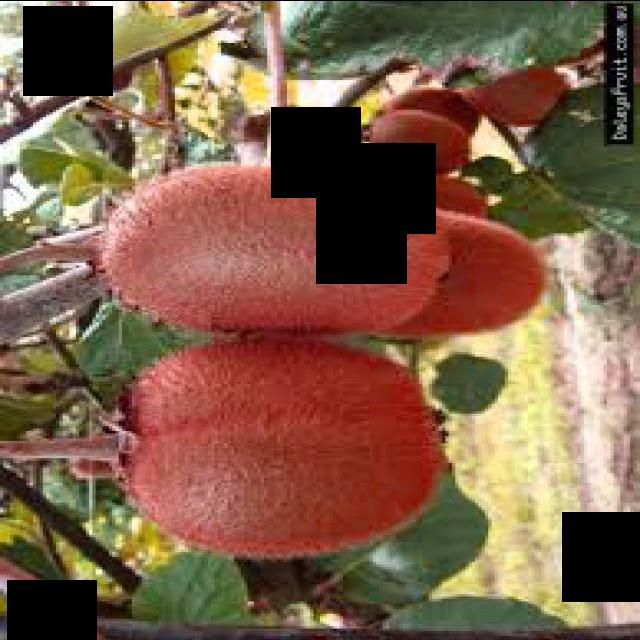kiwi: (116, 335, 453, 563), (94, 162, 457, 343), (357, 209, 549, 340), (463, 58, 572, 130), (361, 110, 473, 172)
